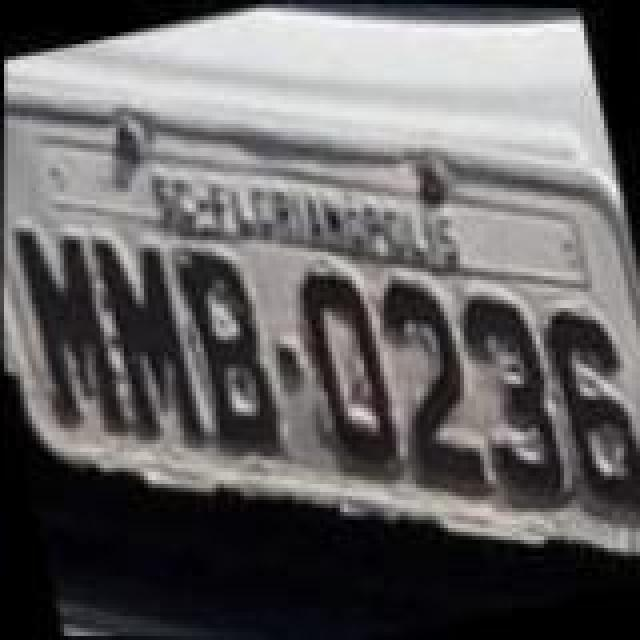2: (372, 270, 492, 498)
3: (450, 278, 574, 510)
6: (536, 300, 640, 516)
B: (166, 232, 286, 456)
M: (10, 212, 130, 436), (86, 224, 206, 448)
O: (292, 258, 408, 474)
